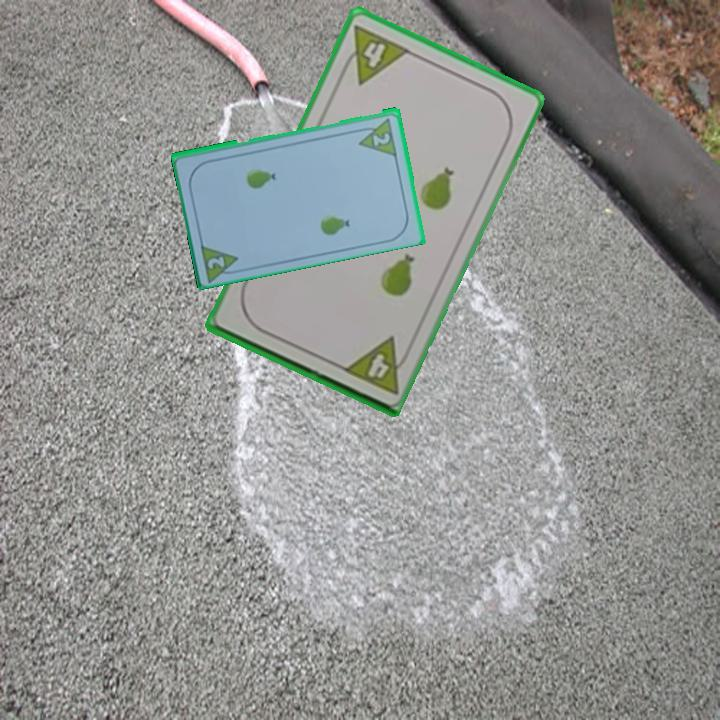2p: (369, 128, 393, 148), (204, 252, 228, 272)
4p: (335, 20, 412, 87), (338, 333, 415, 398)
